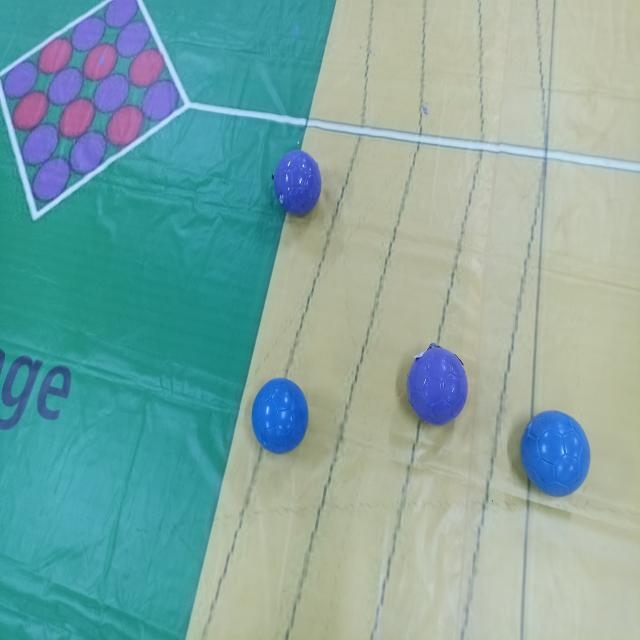blue_ball: (513, 395, 598, 504), (247, 372, 312, 459)
purple_ball: (404, 339, 470, 426), (272, 148, 318, 219)
